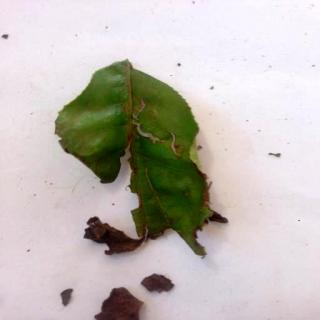Brown Blight: (58, 60, 230, 320)
